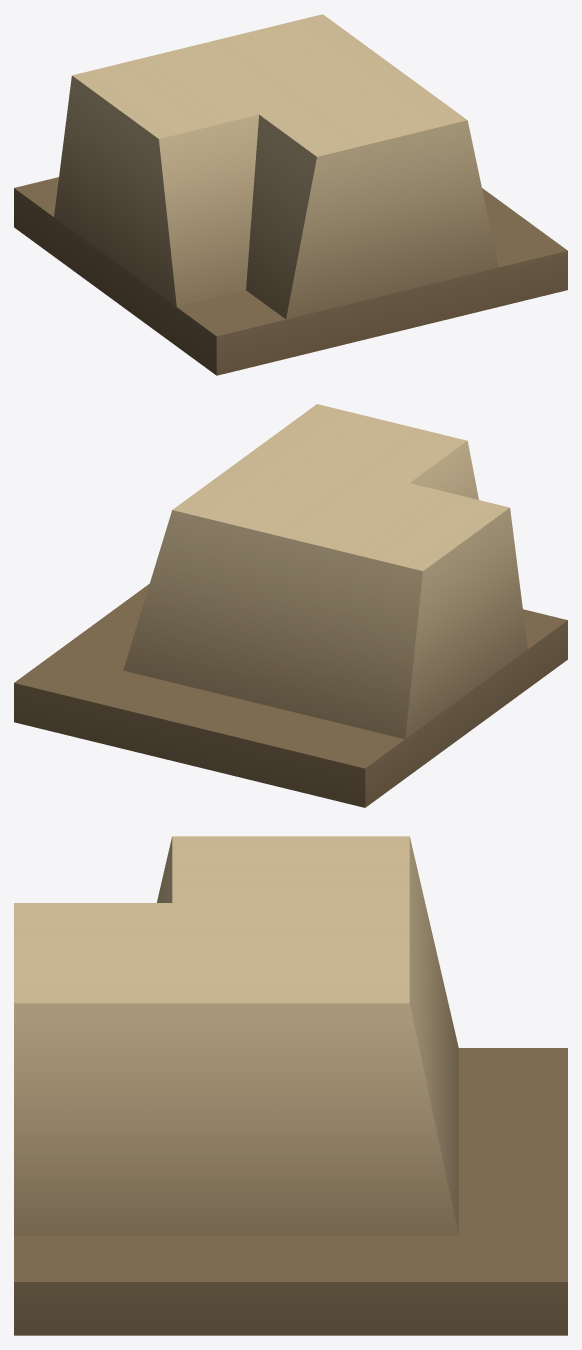
File: SM_WallCorner_Clay.fbx
3 renders of one model, top to bottom at view 1: azimuth 30°, elevation 25°; view 2: azimuth 150°, elevation 25°; view 3: azimuth 270°, elevation 25°, orthographic. The views are drawn at different scales.
Parts seen in each view (by area): view 1: WallCorner_Clay; view 2: WallCorner_Clay; view 3: WallCorner_Clay.
Part boxes in pixels (x1,y1,x2,y2): WallCorner_Clay: (14, 14, 567, 375); WallCorner_Clay: (14, 404, 567, 807); WallCorner_Clay: (14, 836, 567, 1335).
Size of the model in its own units: 200 by 106 by 200.
